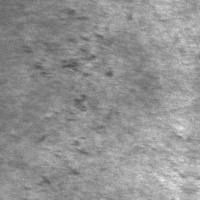rolled-in_scale: (18, 3, 121, 95), (35, 81, 114, 164), (28, 142, 80, 199)
